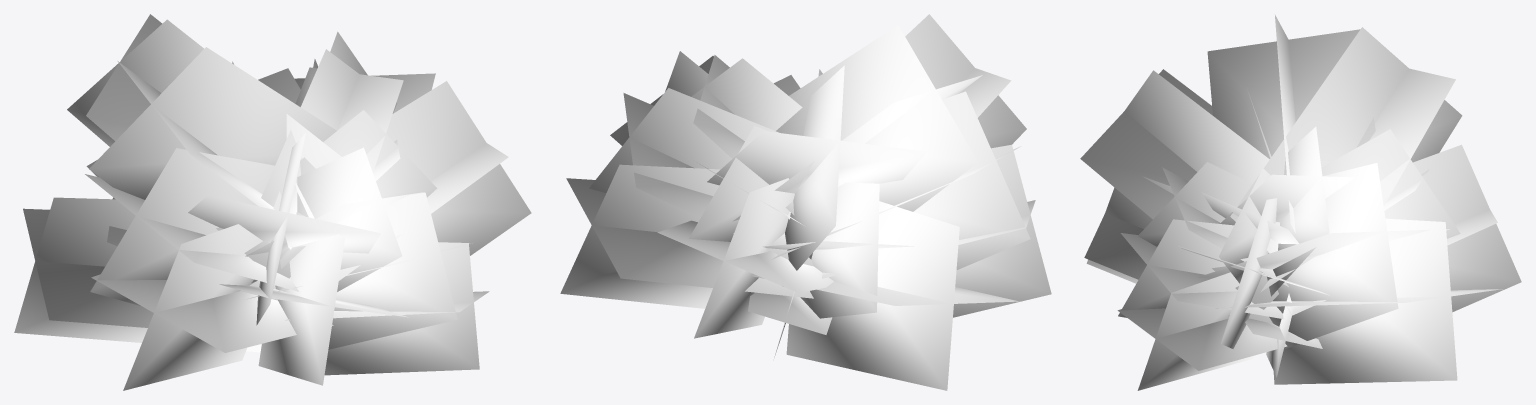
The model's file is Bush03.fbx.
The picture shows the model from 3 angles, left to right: view 1: azimuth 30°, elevation 25°; view 2: azimuth 150°, elevation 25°; view 3: azimuth 270°, elevation 25°; orthographic projection. The views are drawn at different scales.
Visible parts, largest first — view 1: mapleleaftex_1; view 2: mapleleaftex_1; view 3: mapleleaftex_1.
Part boxes in pixels (x1,y1,x2,y2): mapleleaftex_1: (14,14,531,390); mapleleaftex_1: (560,14,1051,390); mapleleaftex_1: (1080,15,1521,390).
Size of the model in its own units: 74.77 by 56.88 by 71.34.
